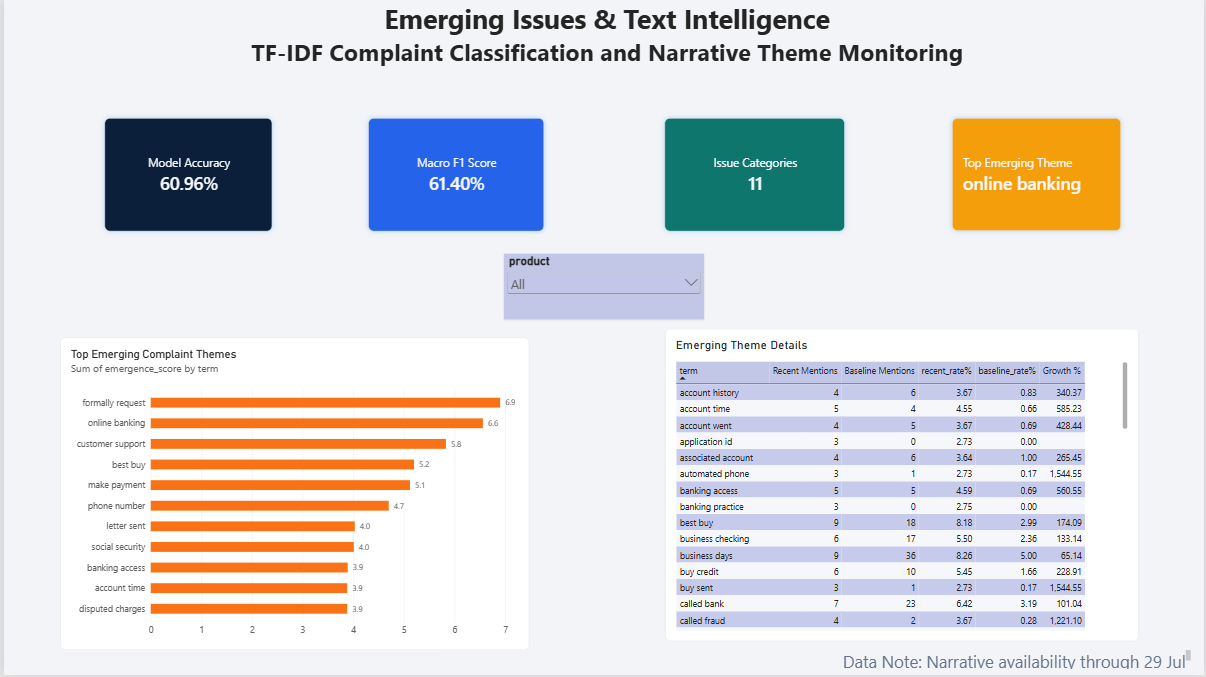

The dashboard page shown, as its layout file describes it:
{"tool":"powerbi","page":{"name":"Emerging Issues","canvas":[1920,1080],"ordinal":2},"visuals":[{"type":"textbox","box":[10,0,1910,280],"z":0},{"type":"slicer","fields":{"Values":["emerging_themes.product"]},"box":[800,405,320,105],"z":1000},{"type":"cardVisual","fields":{"Data":["emerging_themes.Model Accuracy"]},"box":[150,177.5,290,203.3],"z":2000},{"type":"cardVisual","fields":{"Data":["emerging_themes.Top Emerging Theme"]},"box":[1505,177.5,292.5,202.5],"z":3000},{"type":"cardVisual","fields":{"Data":["emerging_themes.Issue Categories"]},"box":[1045,177.5,310,203.3],"z":4000},{"type":"cardVisual","fields":{"Data":["emerging_themes.Macro F1 Score"]},"box":[572.5,177.5,303.3,203.3],"z":5000},{"type":"barChart","title":"Top Emerging Complaint Themes","fields":{"Category":["emerging_themes.term"],"Y":["Sum(emerging_themes.emergence_score)"]},"box":[90,540,750,500],"z":6000},{"type":"tableEx","title":"Emerging Theme Details","fields":{"Values":["emerging_themes.term","emerging_themes.recent_mentions","emerging_themes.baseline_mentions","emerging_themes.recent_rate_percent","emerging_themes.baseline_rate_percent","emerging_themes.growth_rate_percent"]},"box":[1058.3,526.7,757.5,500],"z":7000},{"type":"textbox","box":[1325,1040,572.5,30],"z":8000}]}

Visuals, with their boxes in screenshot pixels (x1, y1, x2, y2), scaled from the page's 1920x1080 canvas onto the 1206x677 screenshot:
textbox: (6, 0, 1205, 176)
slicer - emerging_themes.product: (503, 254, 704, 320)
cardVisual - emerging_themes.Model Accuracy: (94, 111, 276, 239)
cardVisual - emerging_themes.Top Emerging Theme: (945, 111, 1129, 238)
cardVisual - emerging_themes.Issue Categories: (656, 111, 851, 239)
cardVisual - emerging_themes.Macro F1 Score: (360, 111, 550, 239)
"Top Emerging Complaint Themes" barChart: (57, 338, 528, 652)
"Emerging Theme Details" tableEx: (665, 330, 1141, 644)
textbox: (832, 652, 1192, 671)
